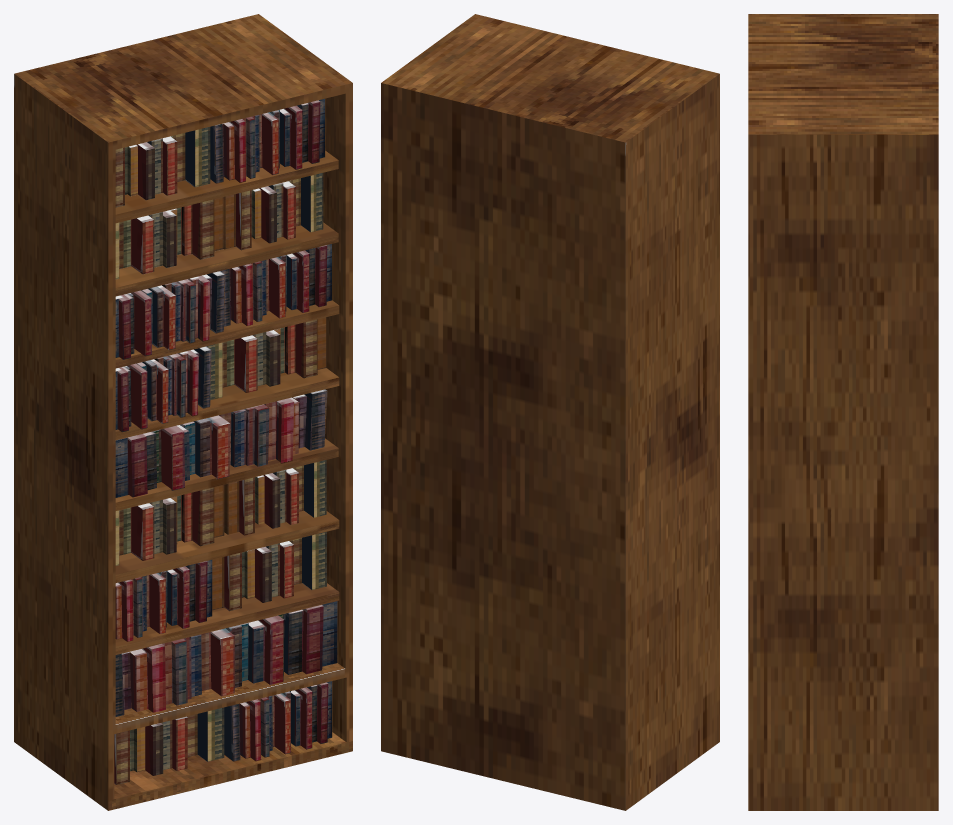
Rendered from Bookcase.fbx.
3 views of the same model, side by side, from view 1: azimuth 30°, elevation 25°; view 2: azimuth 150°, elevation 25°; view 3: azimuth 270°, elevation 25° (orthographic).
Parts seen in each view (by area): view 1: bookcase; view 2: bookcase; view 3: bookcase.
Part boxes in pixels (x1=…): bookcase: x1=14, y1=14, x2=352, y2=810; bookcase: x1=381, y1=14, x2=719, y2=810; bookcase: x1=748, y1=14, x2=938, y2=810.
Bounding box in the file's own units: 91.01 × 238 × 60.67.
